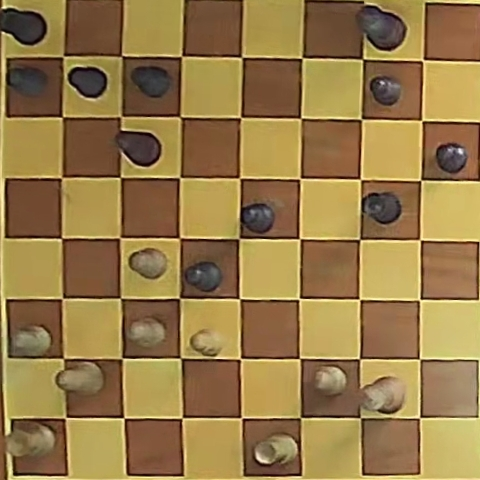black-king: (357, 5, 406, 51)
black-knight: (115, 131, 161, 167)
black-pawn: (68, 66, 108, 99), (131, 66, 172, 98), (7, 66, 48, 97), (184, 261, 222, 292), (241, 203, 275, 233), (370, 76, 402, 106), (436, 143, 468, 173)
black-rook: (0, 7, 47, 47), (363, 192, 402, 224)
white-bishop: (57, 362, 103, 394)
white-king: (361, 376, 405, 413)
white-pawn: (11, 325, 52, 356), (127, 317, 166, 348), (129, 248, 168, 279), (315, 366, 347, 396), (190, 329, 223, 356)
white-rook: (6, 422, 57, 458), (254, 433, 297, 466)
